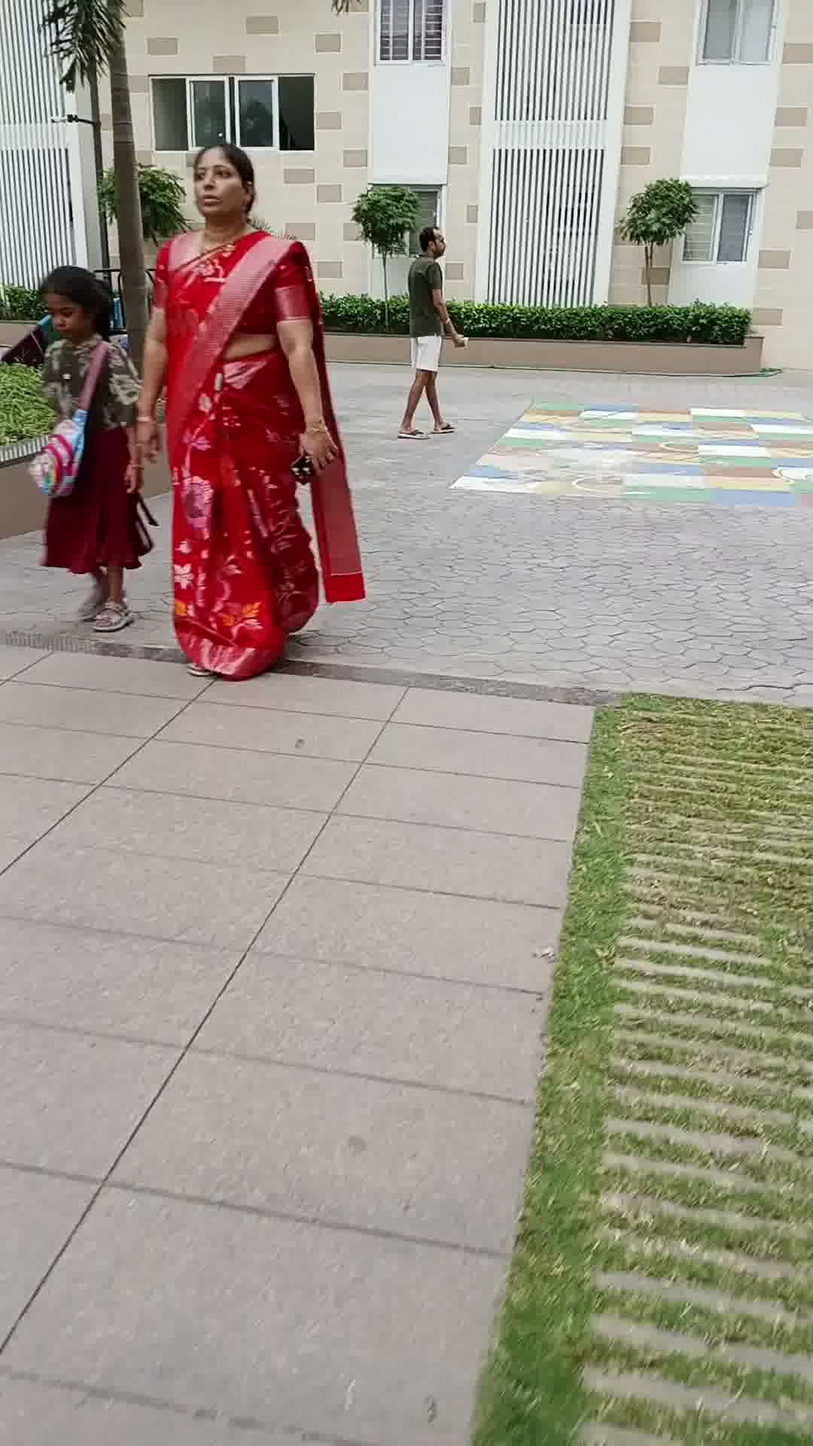person: (145, 105, 364, 712), (43, 250, 145, 683), (387, 216, 472, 473)
tree: (20, 3, 168, 393), (617, 165, 711, 376), (333, 159, 432, 342)
